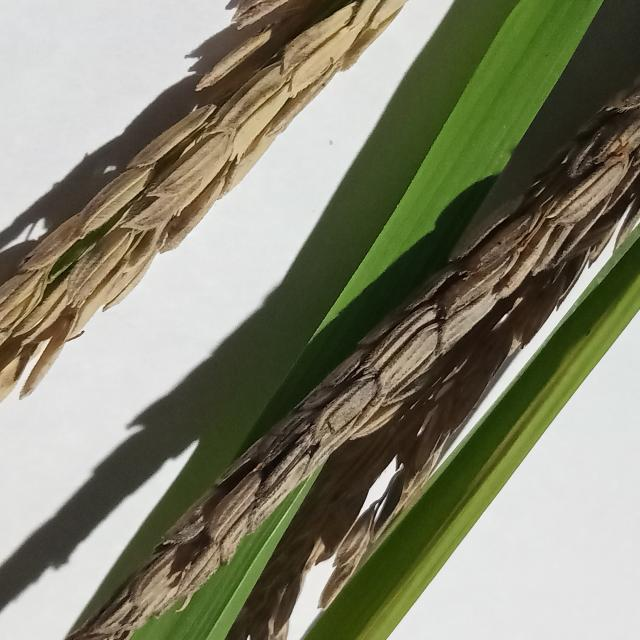Neck_Blast: (63, 55, 640, 640), (0, 0, 404, 396)
